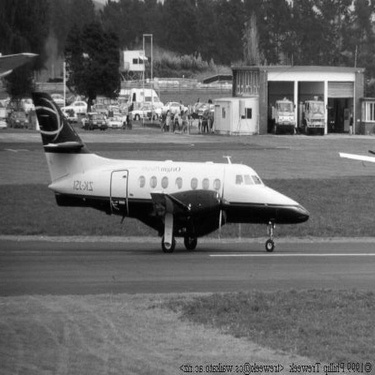airplane: (8, 71, 328, 267)
